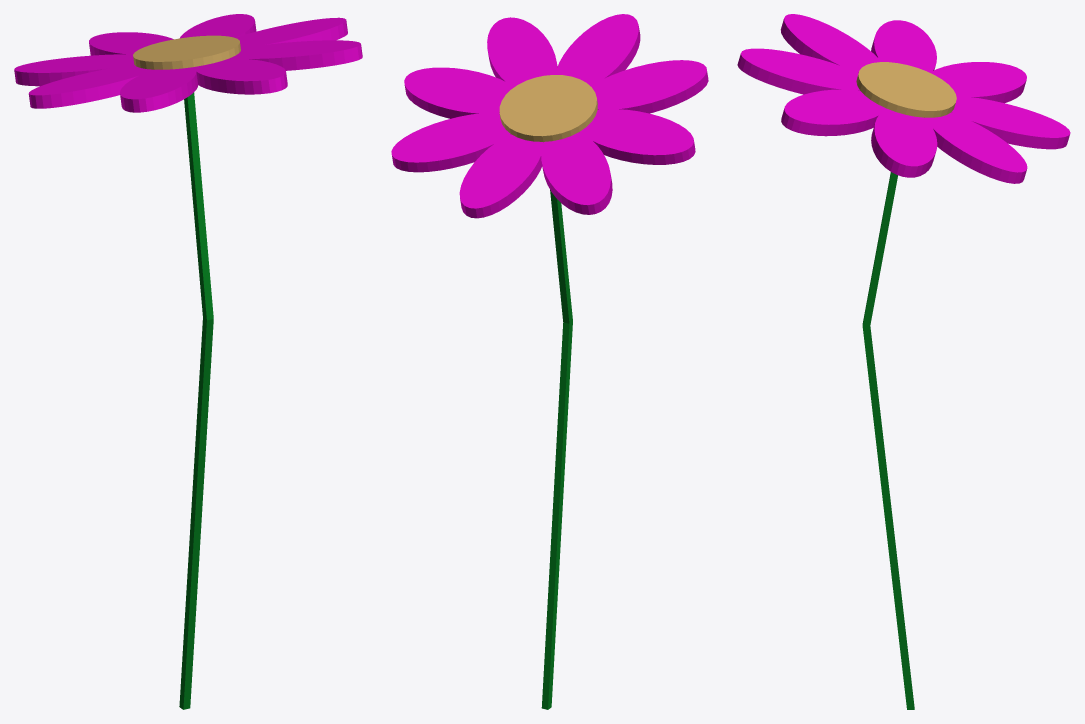
The model's file is Dazdraperma.fbx.
3 views of the same model, side by side, from view 1: azimuth 30°, elevation 25°; view 2: azimuth 150°, elevation 25°; view 3: azimuth 270°, elevation 25° (orthographic). The views are drawn at different scales.
Visible parts, largest first — view 1: Cylinder; view 2: Cylinder; view 3: Cylinder.
Part boxes in pixels (box(x1,y1,x2,y2)): Cylinder: box(14, 14, 362, 709); Cylinder: box(391, 14, 708, 709); Cylinder: box(737, 14, 1070, 709).
Size of the model in its own units: 0.2911 by 0.6163 by 0.2842.
